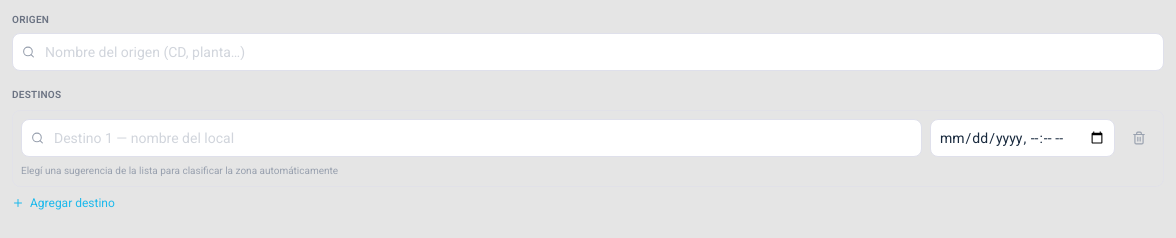
Test case: RouteEditor › elegir un local real para un destino autocompleta destination_region (numérico) y muestra la zona
In the field named "Nombre destino 1": (472, 138) [21, 119, 922, 157], type "farfana"
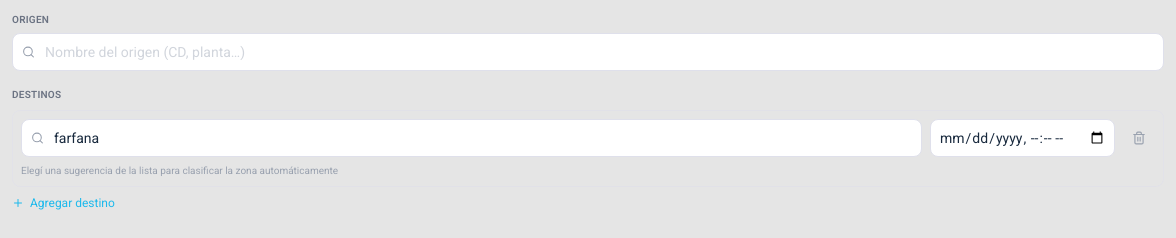
Focus the field named "Nombre destino 1": (472, 138) [21, 119, 922, 157]
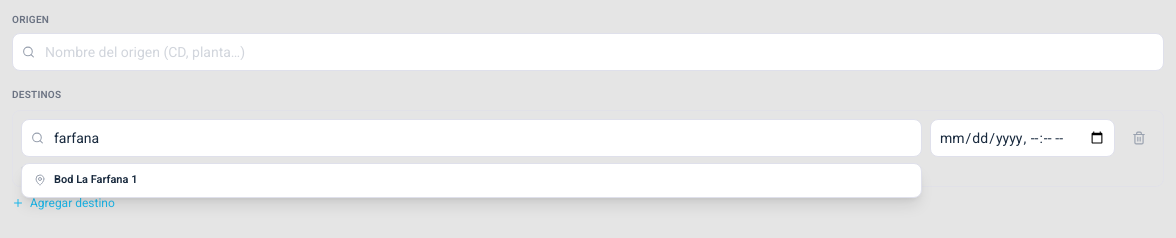
Click the button "Bod La Farfana 1": (96, 180) [22, 164, 921, 196]
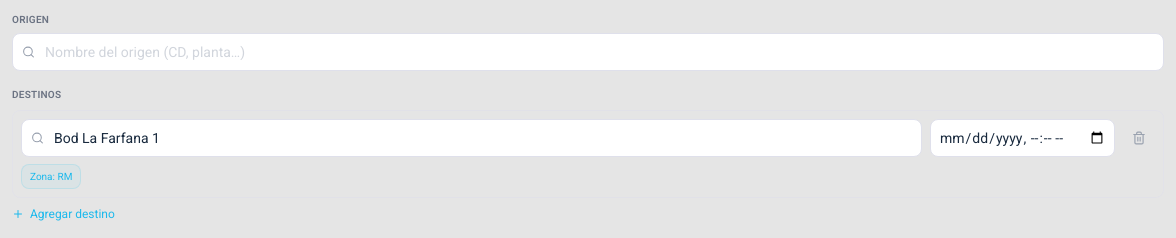
Check: the text "Zona: RM" is shown, box [21, 164, 81, 189]
